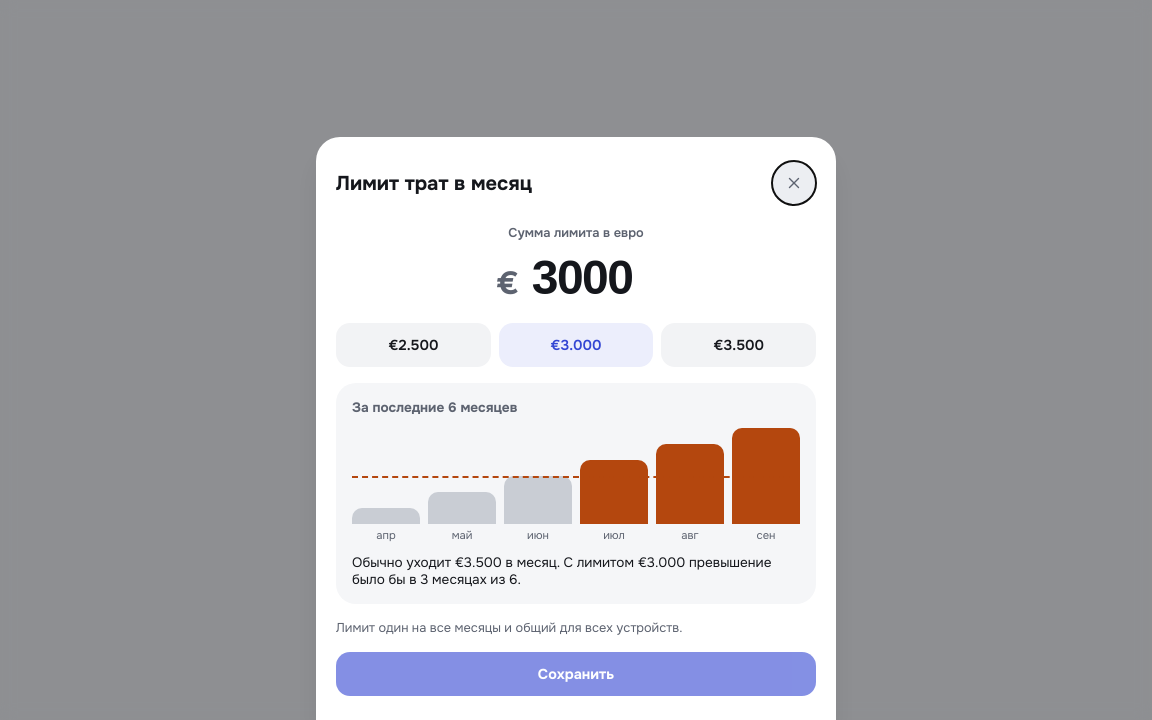
Scenario: LimitSheet › puts a preset into the field and presses it
Click the button "€3.500" at (739, 345), box [661,323,816,367]
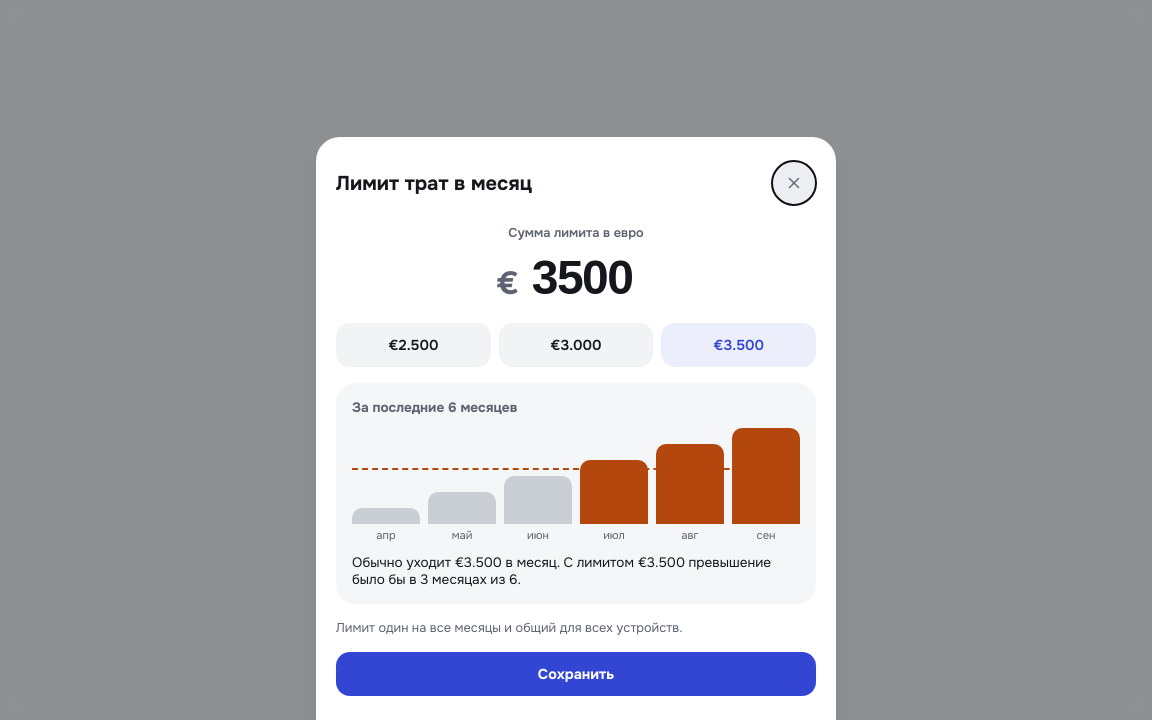
expect the number field labelled "Сумма лимита в евро" holds "3500": met, box [523,249,656,307]
